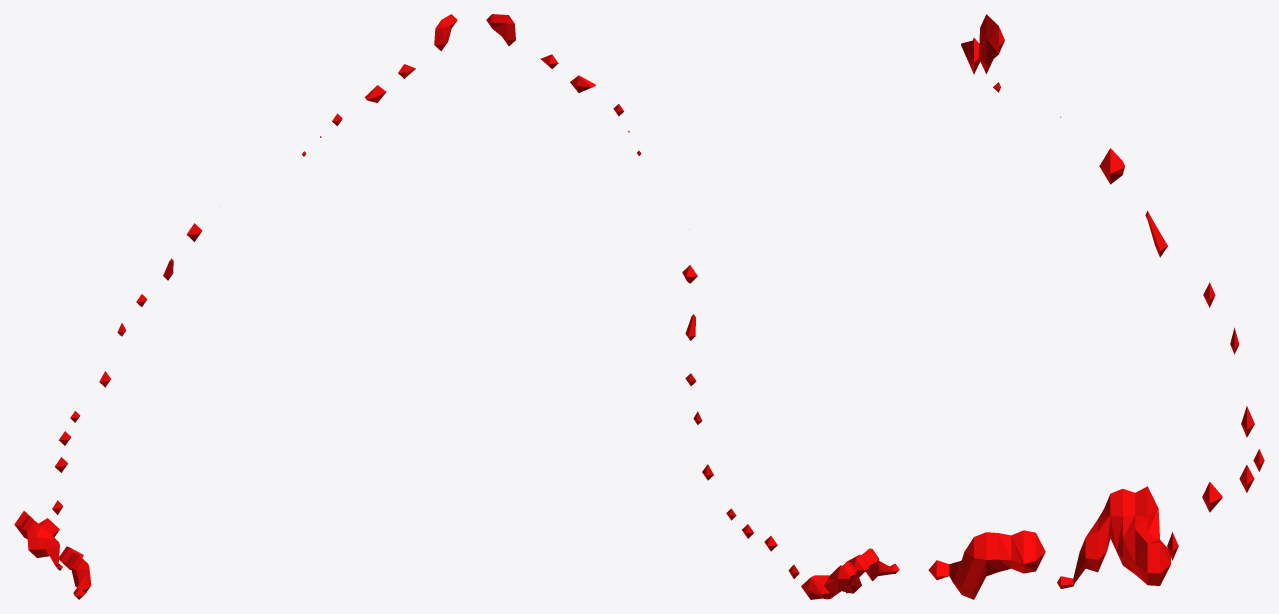
The model's file is tap_coarse.dae.
3 renders of one model, left to right at view 1: azimuth 30°, elevation 25°; view 2: azimuth 150°, elevation 25°; view 3: azimuth 270°, elevation 25°, orthographic. The views are drawn at different scales.
Parts seen in each view (by area): view 1: tap; view 2: tap; view 3: tap.
Part boxes in pixels (x1,y1,x2,y2): tap: [14, 14, 457, 599]; tap: [486, 14, 899, 599]; tap: [928, 14, 1264, 599].
Bounding box in the file's own units: 503 × 574 × 189.
